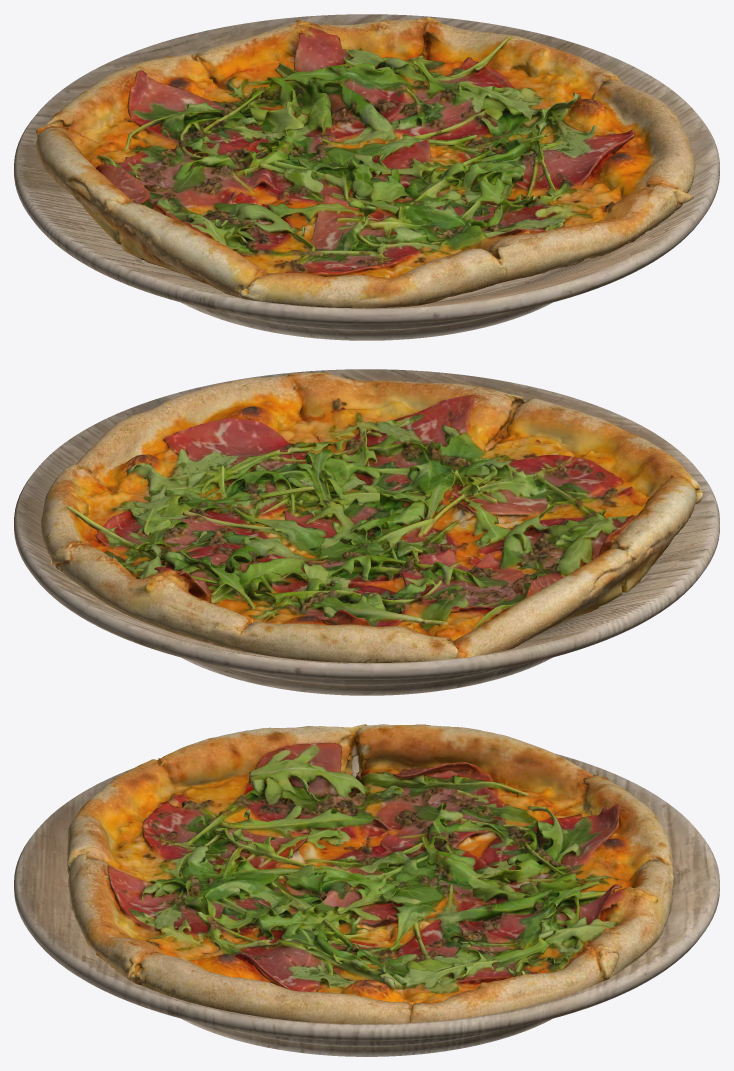
Rendered from pizza-transformed.glb.
3 views of the same model, one above another, from view 1: azimuth 30°, elevation 25°; view 2: azimuth 150°, elevation 25°; view 3: azimuth 270°, elevation 25° (orthographic).
Parts seen in each view (by area): view 1: pizza_pizza_0, Tarelka001__0; view 2: pizza_pizza_0, Tarelka001__0; view 3: pizza_pizza_0, Tarelka001__0.
Part boxes in pixels (<box>): pizza_pizza_0: <box>36,16,695,308</box>; Tarelka001__0: <box>14,14,719,340</box>; pizza_pizza_0: <box>41,372,703,662</box>; Tarelka001__0: <box>14,369,719,695</box>; pizza_pizza_0: <box>67,724,673,1024</box>; Tarelka001__0: <box>14,753,719,1056</box>.
Size of the model in its own units: 0.6031 by 0.1028 by 0.6031.
2 materials, 2 textured.
